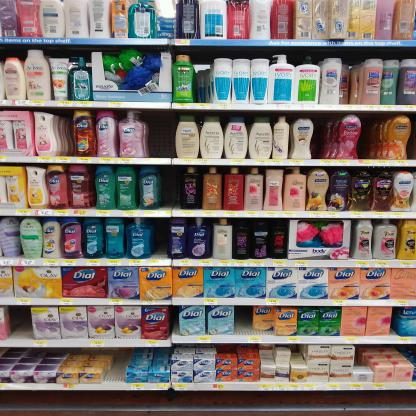Void: (146, 116, 176, 158), (192, 50, 211, 100), (156, 170, 178, 205), (148, 227, 168, 262), (9, 312, 27, 332), (111, 351, 123, 380), (237, 308, 247, 332)
